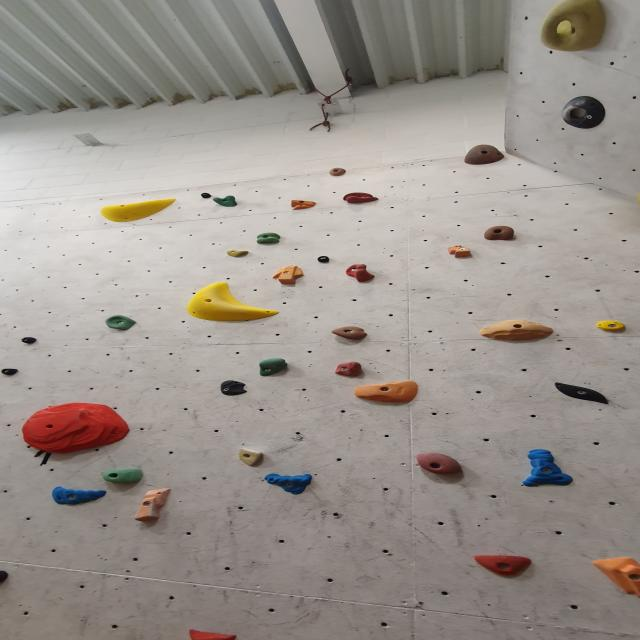Crimp: (19, 402, 133, 457), (470, 554, 538, 577), (263, 474, 316, 496), (52, 487, 111, 506), (102, 315, 139, 332), (238, 447, 269, 465), (186, 630, 240, 640), (342, 191, 380, 204), (596, 320, 630, 333), (288, 200, 320, 211)
Jug: (537, 0, 611, 52), (414, 452, 470, 476), (460, 146, 506, 167), (103, 466, 147, 484), (331, 325, 373, 343), (257, 357, 294, 376), (343, 265, 378, 284), (481, 225, 520, 241), (334, 361, 366, 377), (256, 233, 284, 247), (211, 196, 239, 207), (326, 168, 349, 178)
Pinch: (519, 446, 577, 488), (129, 487, 175, 523), (271, 267, 307, 286), (448, 244, 480, 256), (224, 249, 254, 259), (18, 338, 41, 347), (196, 191, 215, 200), (0, 367, 21, 375), (313, 255, 333, 263)
Pocket: (560, 96, 609, 130)
Sloper: (184, 283, 283, 324), (548, 378, 617, 409), (99, 198, 181, 224), (478, 318, 560, 342), (592, 558, 640, 598), (350, 381, 420, 405), (217, 378, 251, 394)
